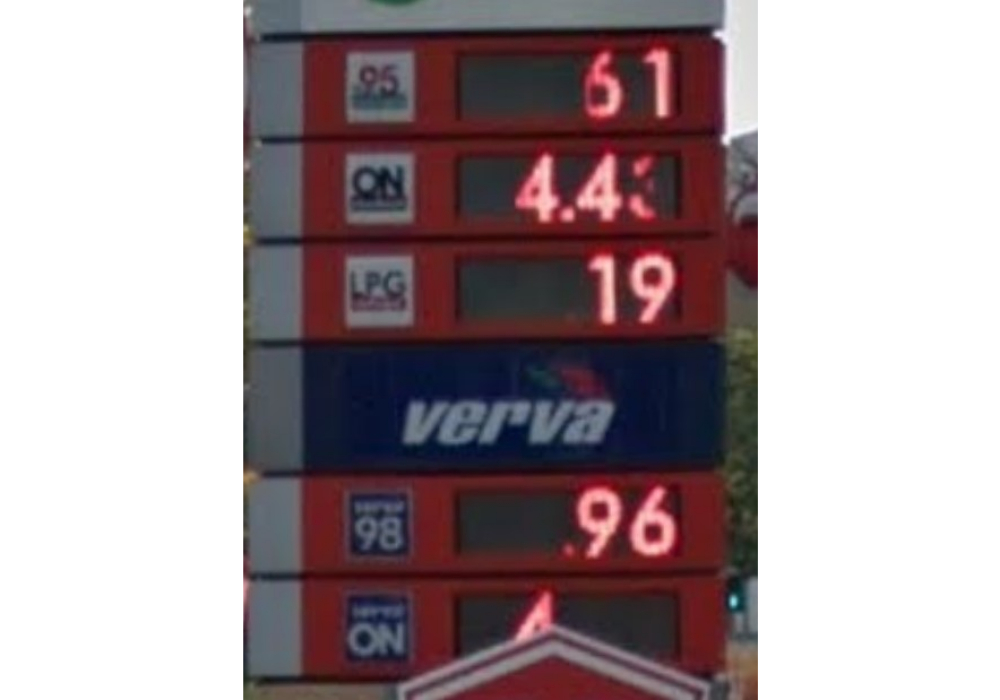LPG: (344, 251, 419, 327)
ON: (341, 148, 416, 227), (342, 587, 410, 664)
PB95: (342, 45, 416, 124)
PB98: (341, 485, 413, 557)
